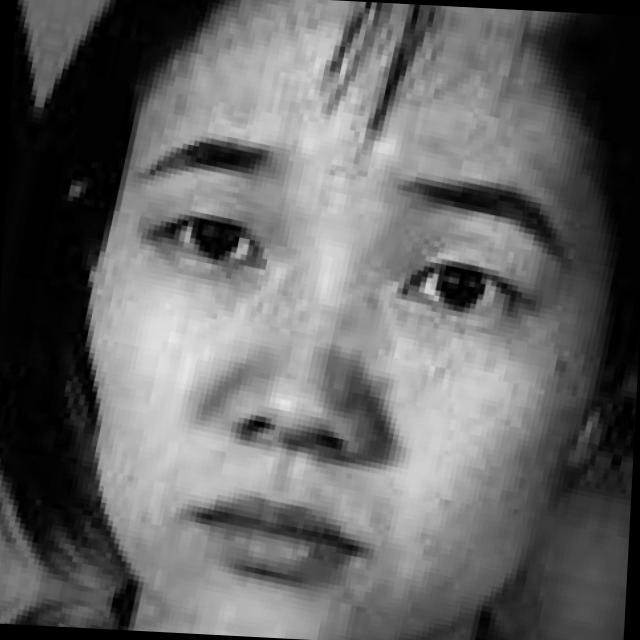fear: (31, 27, 604, 640)
